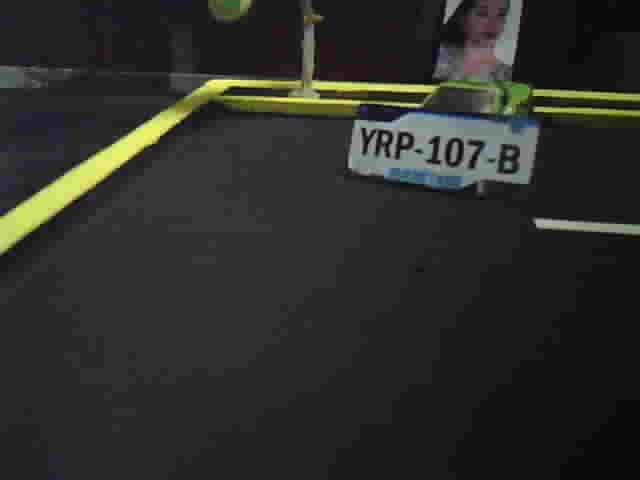PLACA: (345, 100, 542, 202)
ROSTRO: (439, 1, 512, 83)
